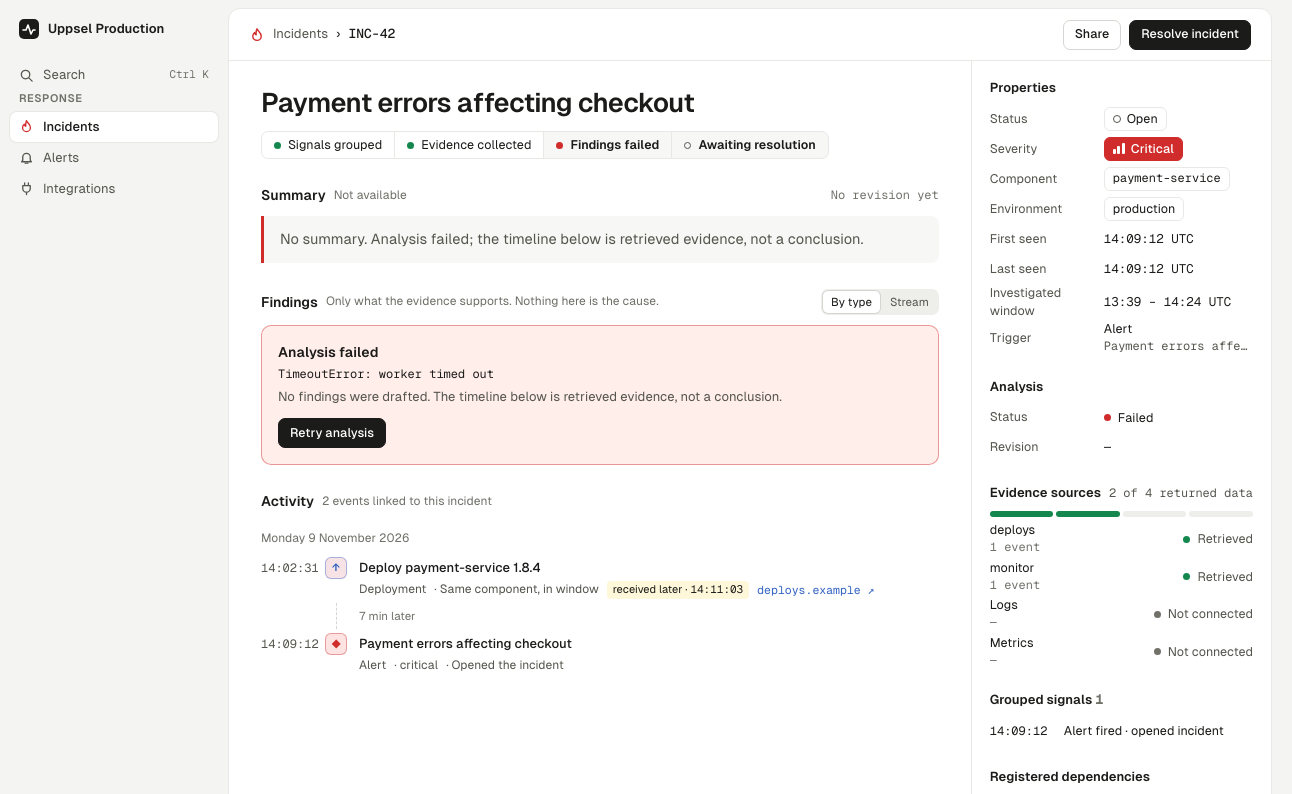
Test: incident detail › failed analysis offers a retry
The width and height of the screenshot is (1292, 794).
Expected: the text "TimeoutError: worker timed out" is shown, [278,366,494,382]
Click the button "Retry analysis". click: click(332, 433)
box: [278,418,386,448]
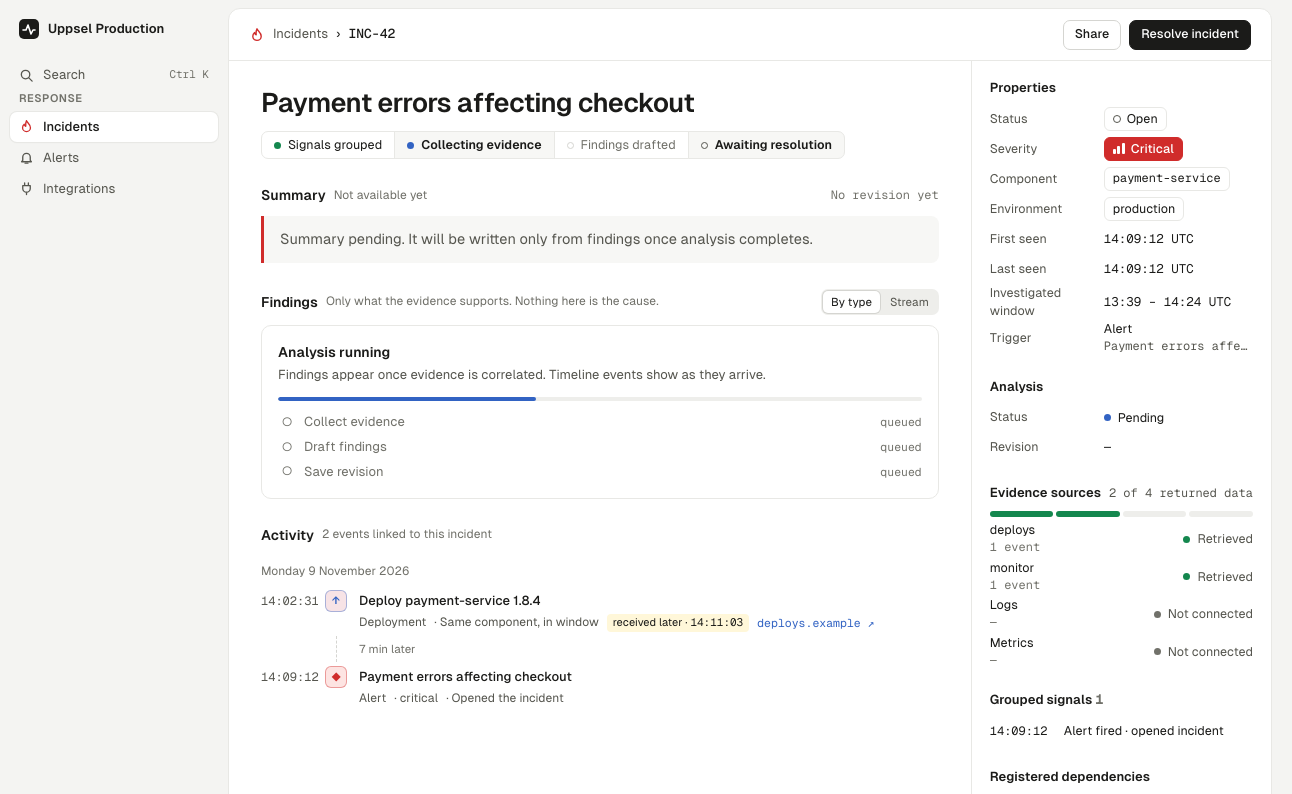
Expected: the text "Analysis running" is shown, [278,344,390,360]
